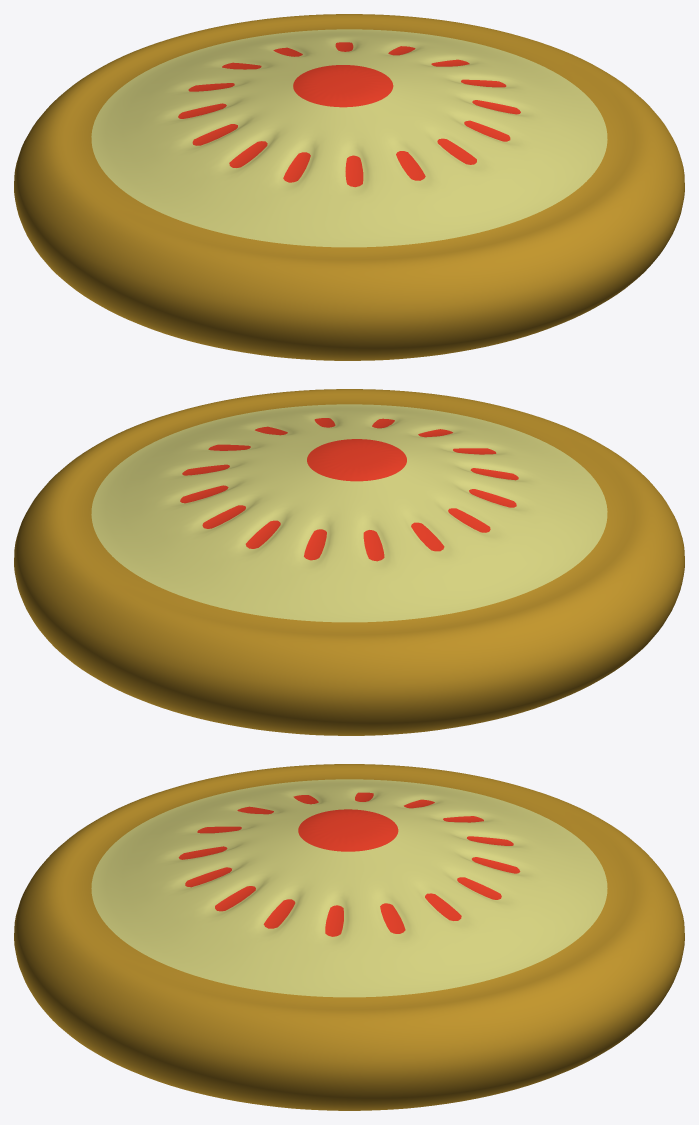
Rendered from Pastel.fbx.
3 renders of one model, top to bottom at view 1: azimuth 30°, elevation 25°; view 2: azimuth 150°, elevation 25°; view 3: azimuth 270°, elevation 25°, orthographic.
Parts seen in each view (by area): view 1: Cylinder; view 2: Cylinder; view 3: Cylinder.
Part boxes in pixels (x1,y1,x2,y2): Cylinder: (14, 14, 684, 360); Cylinder: (14, 389, 684, 735); Cylinder: (14, 764, 684, 1110).
Bounding box in the file's own units: 212 × 59.96 × 212.
